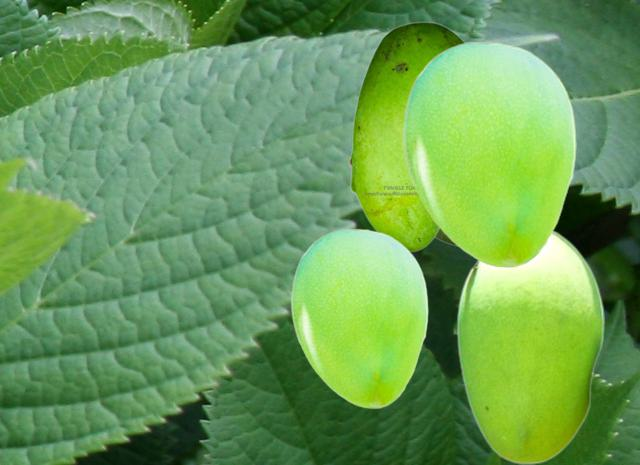green_mango: (402, 41, 575, 266), (456, 230, 603, 463), (348, 21, 464, 251), (290, 228, 427, 407)
